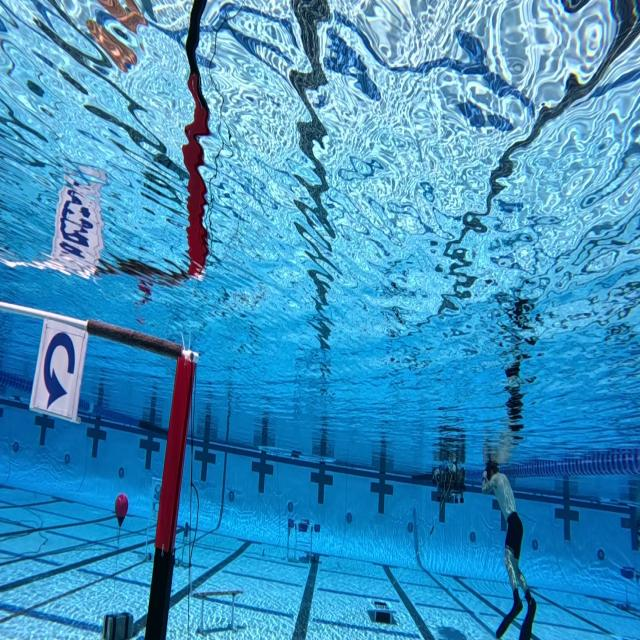blue_side: (28, 321, 88, 418)
